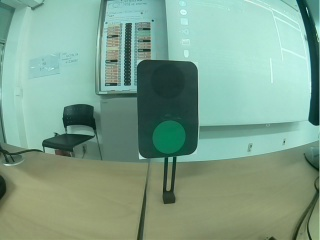green_light: (138, 65, 193, 154)
